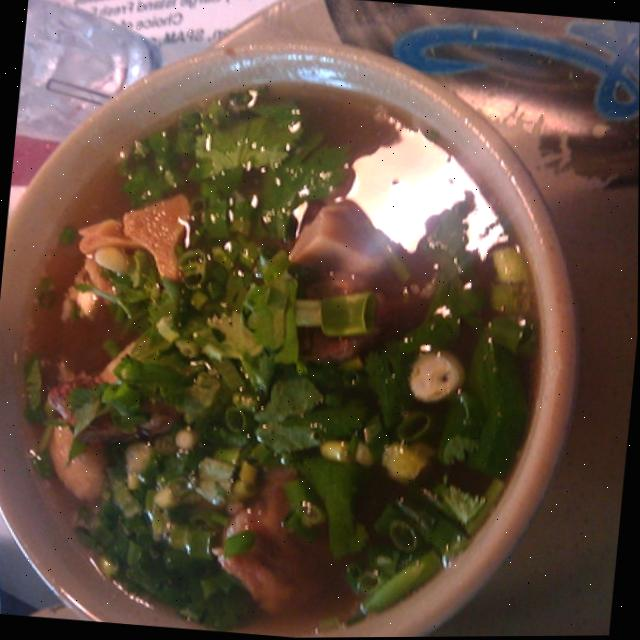汤锅炖物: (0, 20, 597, 640)
